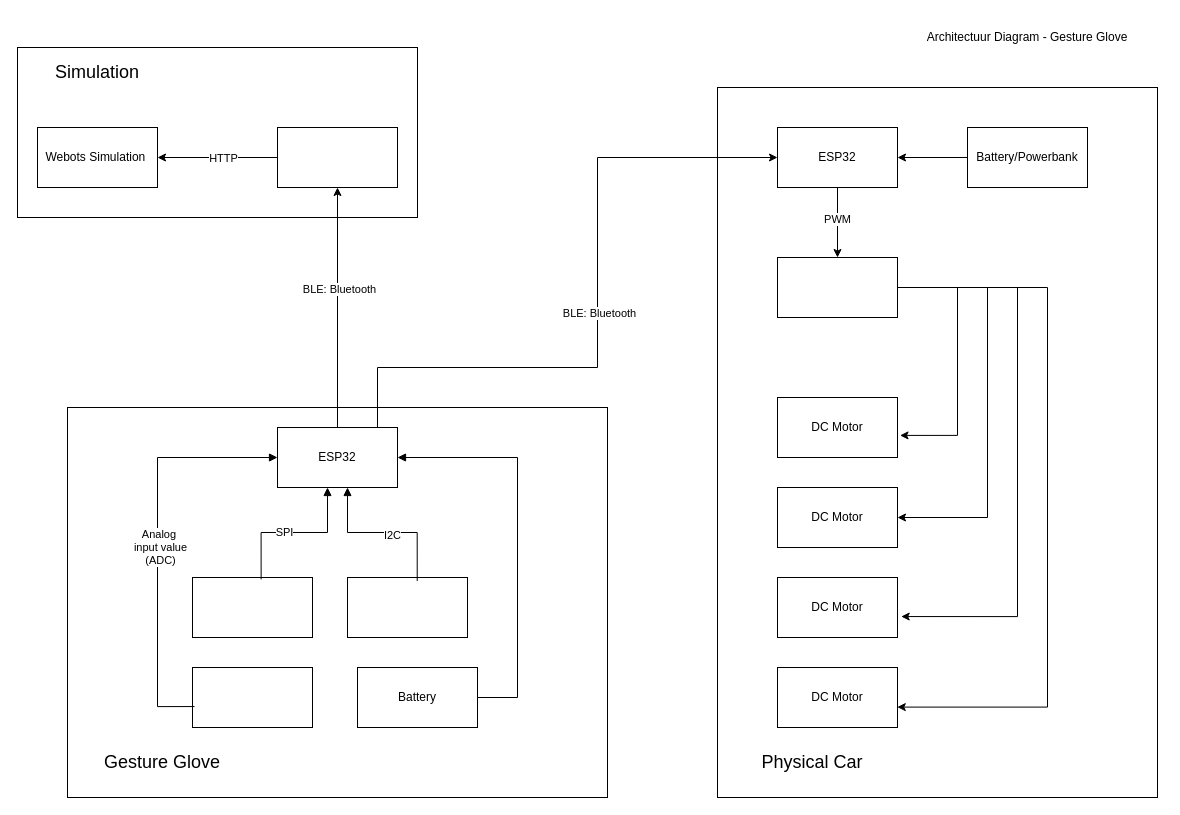
This 1180x815 diagram has some shape labels left out. Each missing label, with the centre of its shape:
"Flex Sensor" goes at point (252, 697).
"Motor Driver" goes at point (837, 287).
"MPU 6050" goes at point (407, 607).
"Receiver (Python)" goes at point (337, 157).
"SSD1331 OLED display" goes at point (252, 607).
